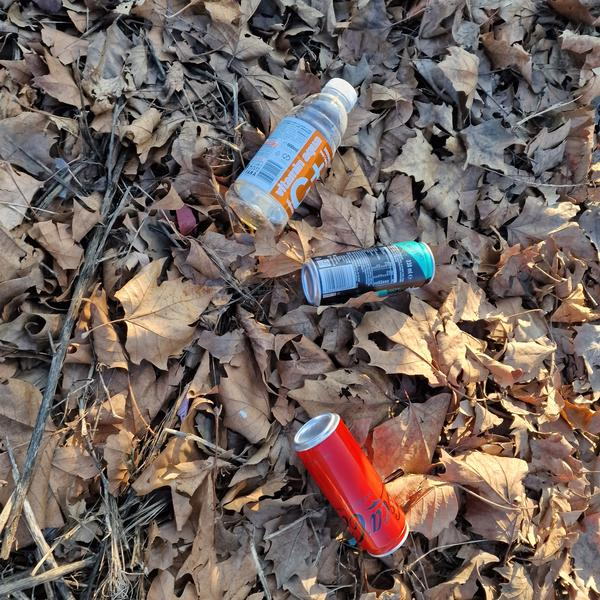can: (284, 406, 421, 566), (297, 235, 440, 309)
plastic_bottle: (218, 65, 378, 243)
